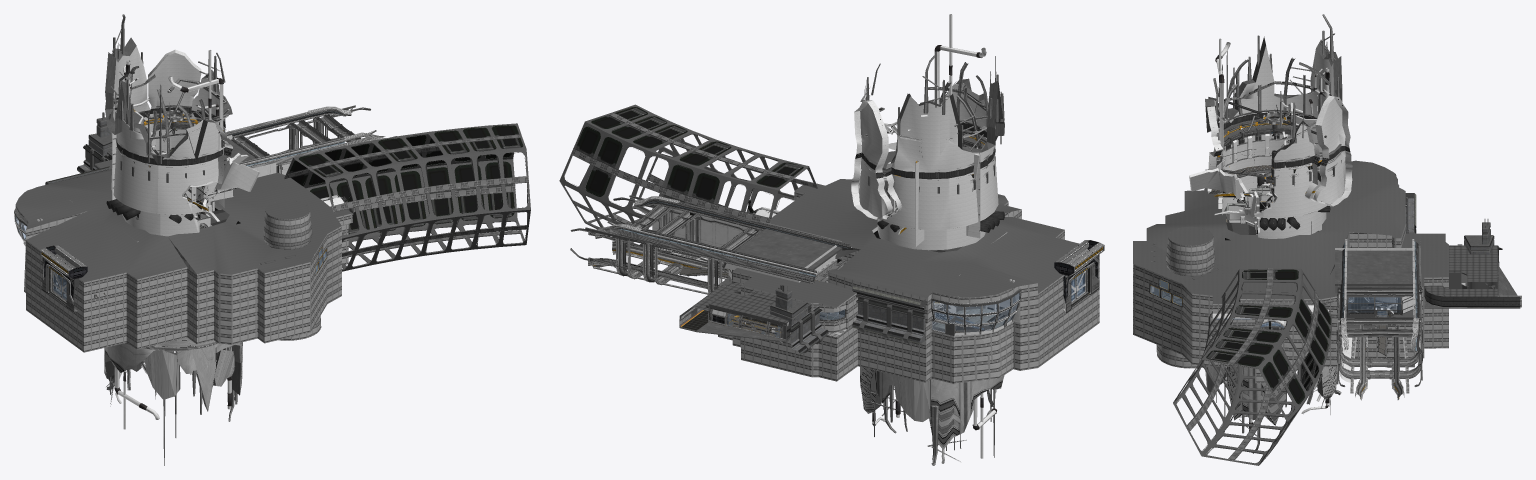
The model's file is SUP_reachmultiplayerdefiantcondem.glb.
The picture shows the model from 3 angles, left to right: view 1: azimuth 30°, elevation 25°; view 2: azimuth 150°, elevation 25°; view 3: azimuth 270°, elevation 25°; orthographic projection. The views are drawn at different scales.
Parts seen in each view (by area): view 1: SUP_reachmultiplayerdefiantcondem; view 2: SUP_reachmultiplayerdefiantcondem; view 3: SUP_reachmultiplayerdefiantcondem.
Part boxes in pixels (<box>): SUP_reachmultiplayerdefiantcondem: <box>14,14,530,465</box>; SUP_reachmultiplayerdefiantcondem: <box>559,14,1104,465</box>; SUP_reachmultiplayerdefiantcondem: <box>1133,14,1521,465</box>.
Bounding box in the file's own units: 110 × 90.71 × 76.35.
87 materials, 87 textured.
